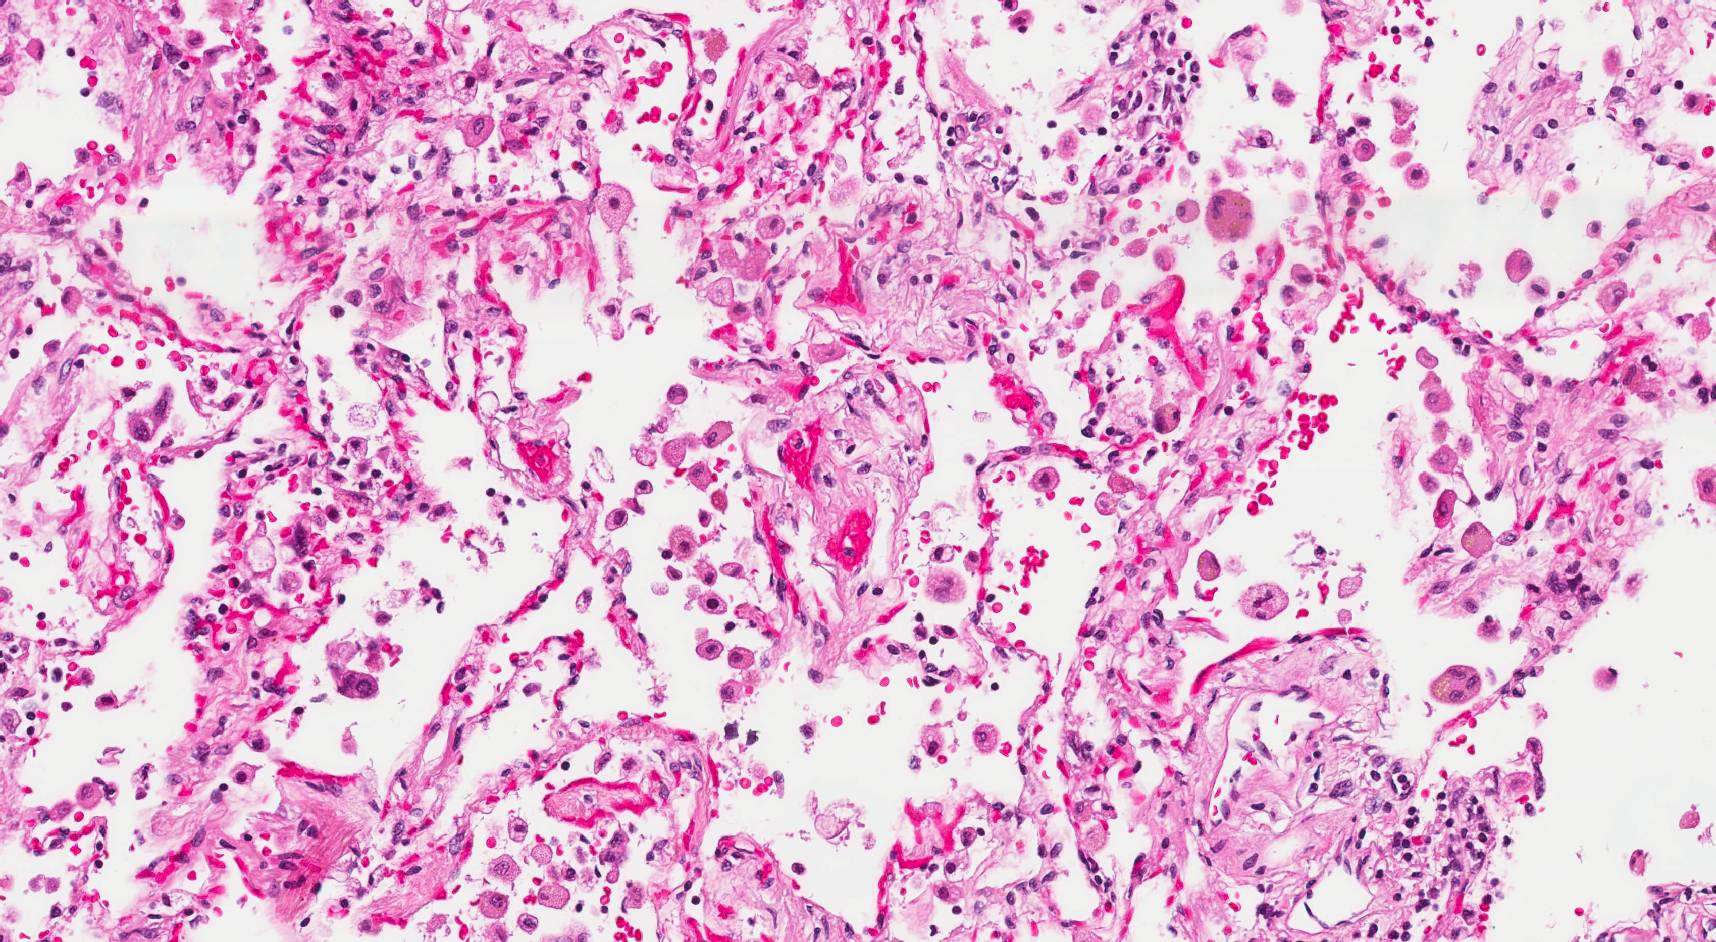stas: (129, 390, 178, 441), (329, 665, 384, 702)
